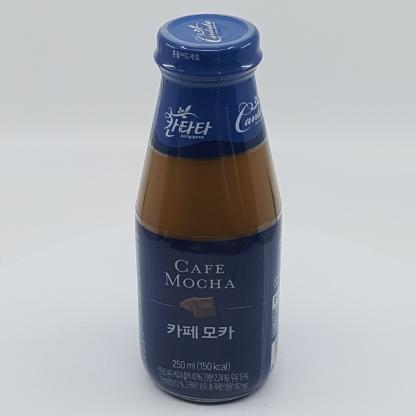------------250ML: (134, 13, 282, 402)
